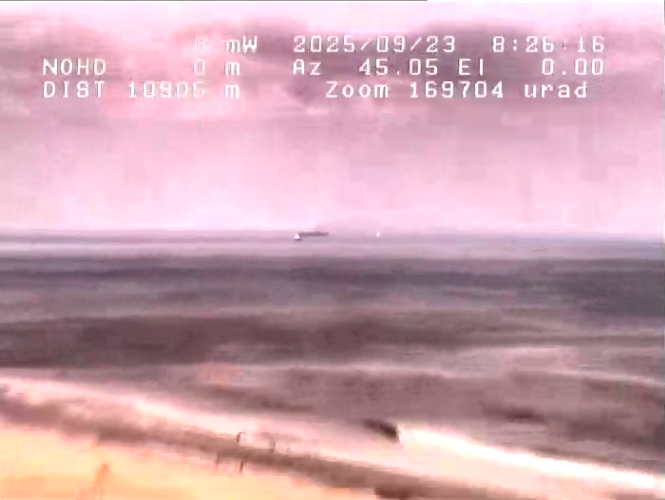TANKER: (286, 221, 332, 236), (293, 234, 307, 243)
